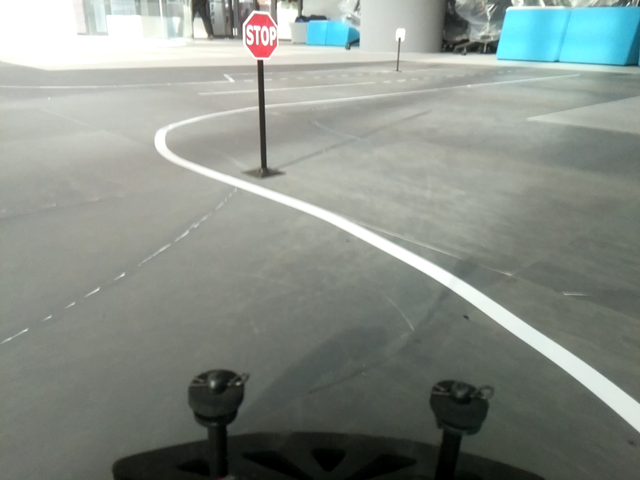stop: (242, 11, 278, 58)
